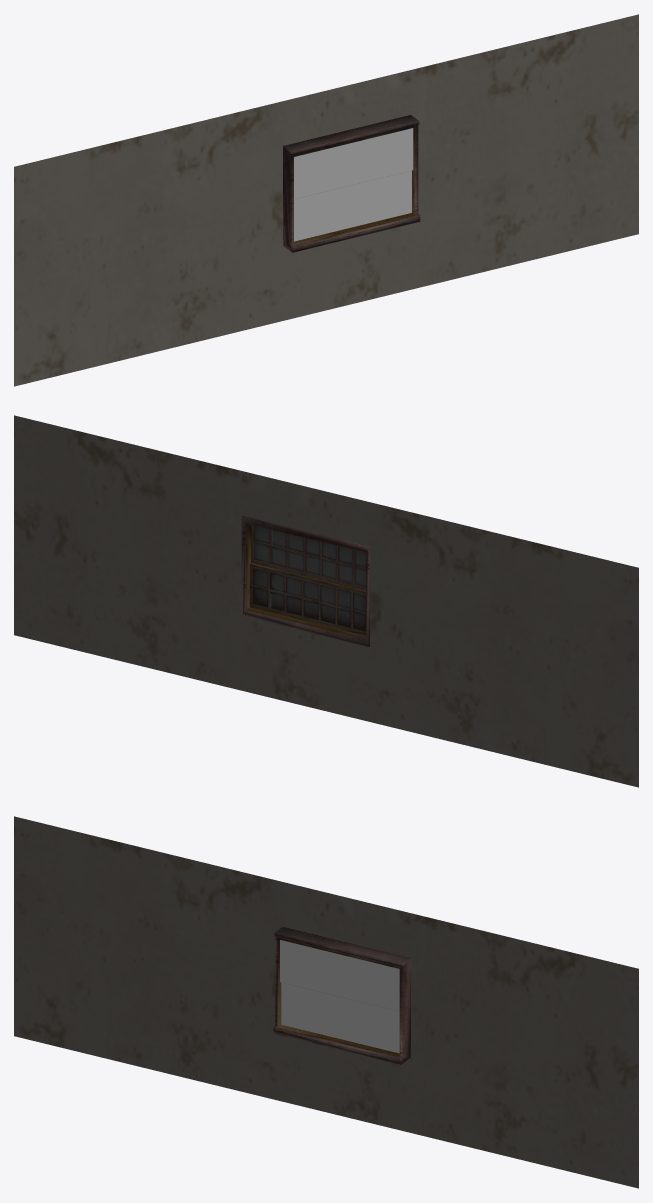
The model's file is Wall With Window neighbor's house.fbx.
3 renders of one model, top to bottom at view 1: azimuth 30°, elevation 25°; view 2: azimuth 150°, elevation 25°; view 3: azimuth 330°, elevation 25°, orthographic.
Visible parts, largest first — view 1: Chao.002; view 2: Chao.002; view 3: Chao.002.
Boxes of the visible parts, x1,y1,x2,y2 form: Chao.002: (14, 14, 638, 386); Chao.002: (14, 415, 638, 787); Chao.002: (14, 816, 638, 1188).
Bounding box in the file's own units: 893 × 300 × 24.66.
